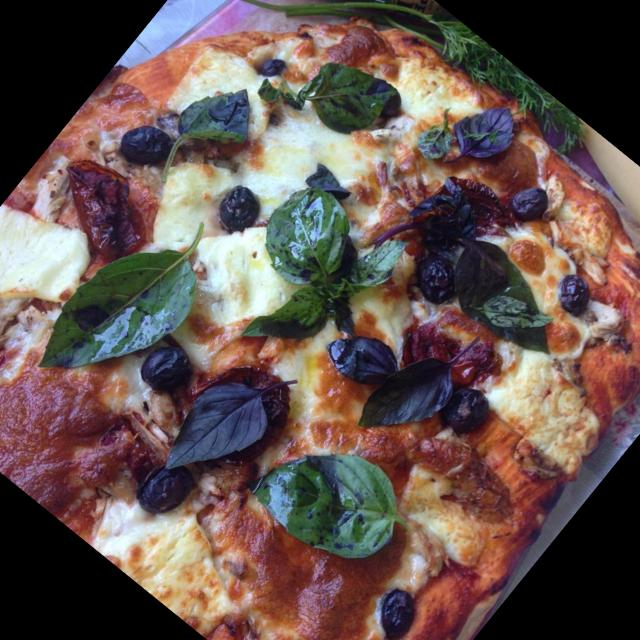black_olives: (128, 450, 200, 524), (498, 174, 568, 242), (404, 245, 471, 312), (210, 174, 276, 242), (430, 372, 496, 440), (115, 110, 180, 174), (132, 336, 195, 402), (366, 583, 423, 640), (550, 264, 605, 318), (254, 50, 288, 85)
pizza: (0, 5, 640, 640)
